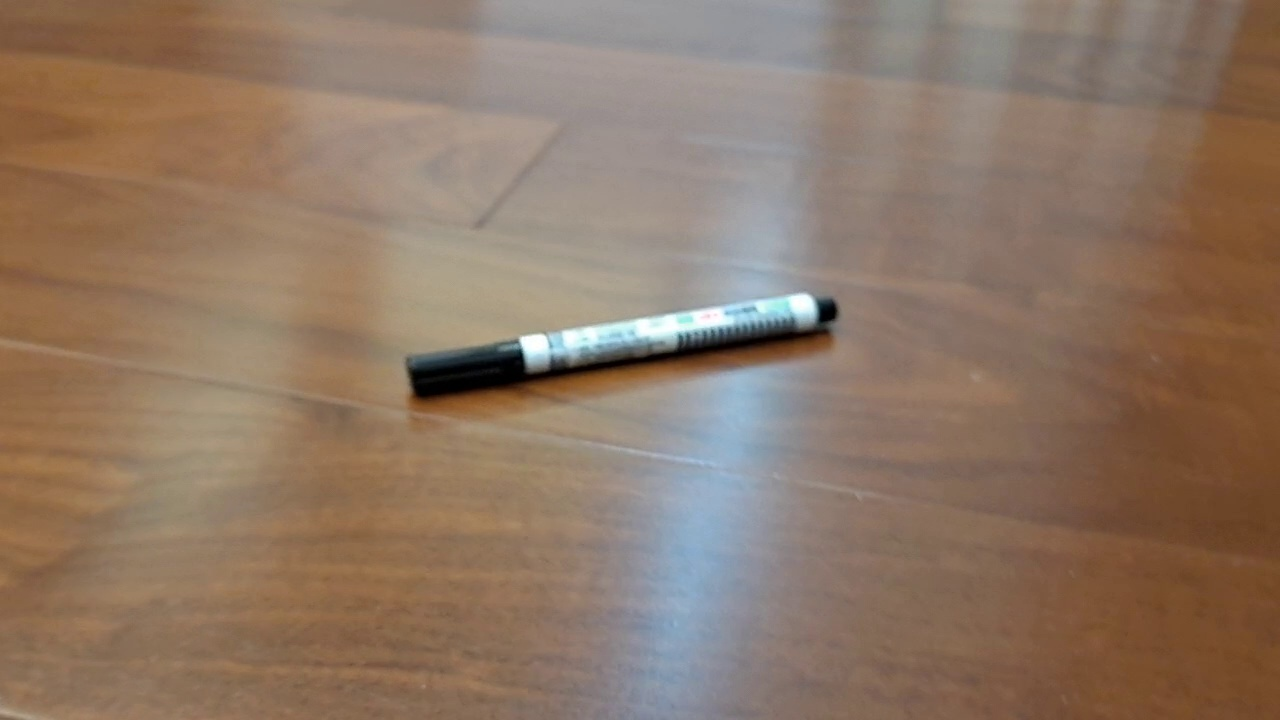pen: (405, 290, 839, 400)
